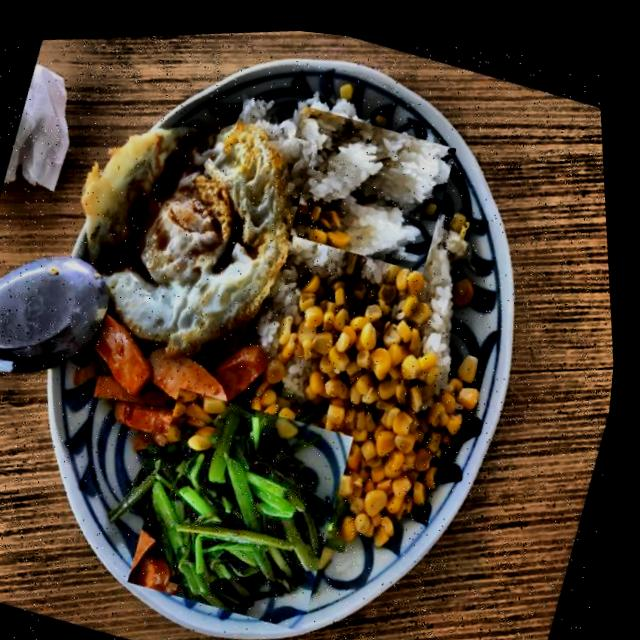Food: (20, 49, 352, 399), (104, 358, 394, 640), (256, 70, 475, 291)
